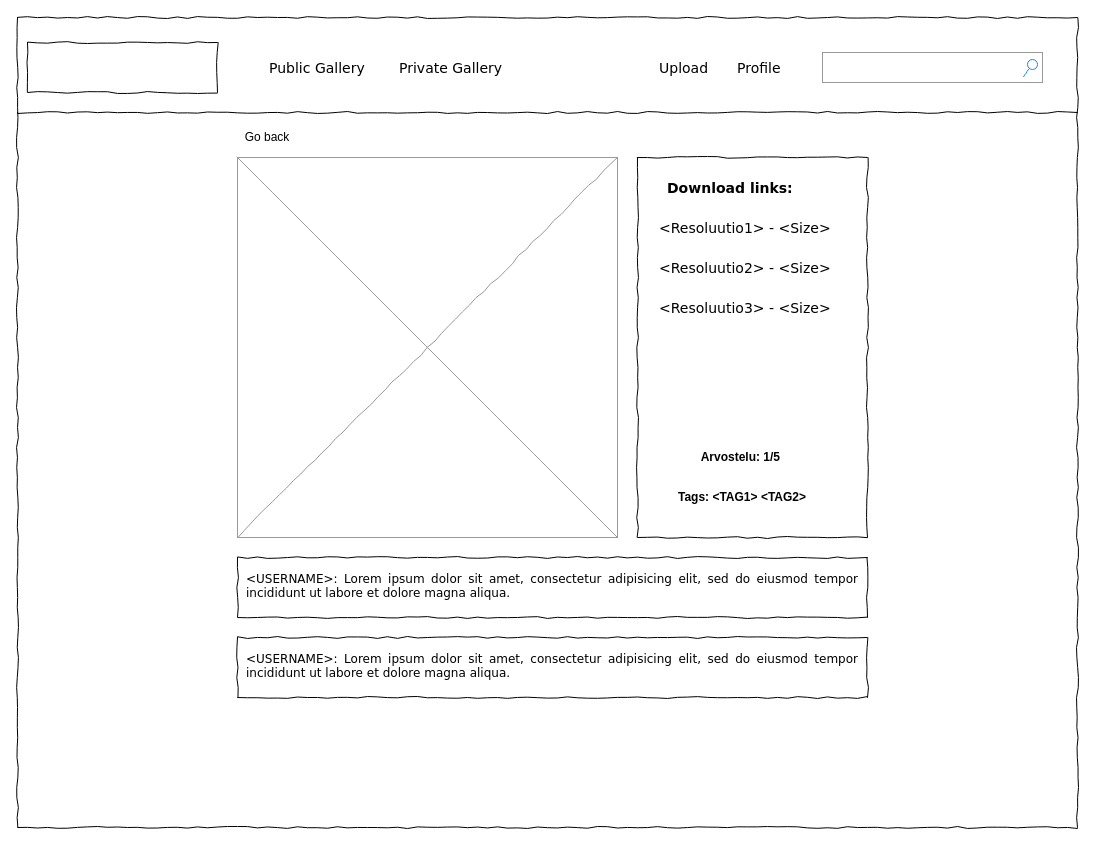
Some shapes in this 1095 by 845 pixel diagram are drawn without their labels. The shapes that lost their labels are listed below. From the top down, each one's box as (x1, y1, x2, y2) in pixels, then its label:
(26, 42, 218, 92): LOGO
(822, 52, 1042, 82): Search
